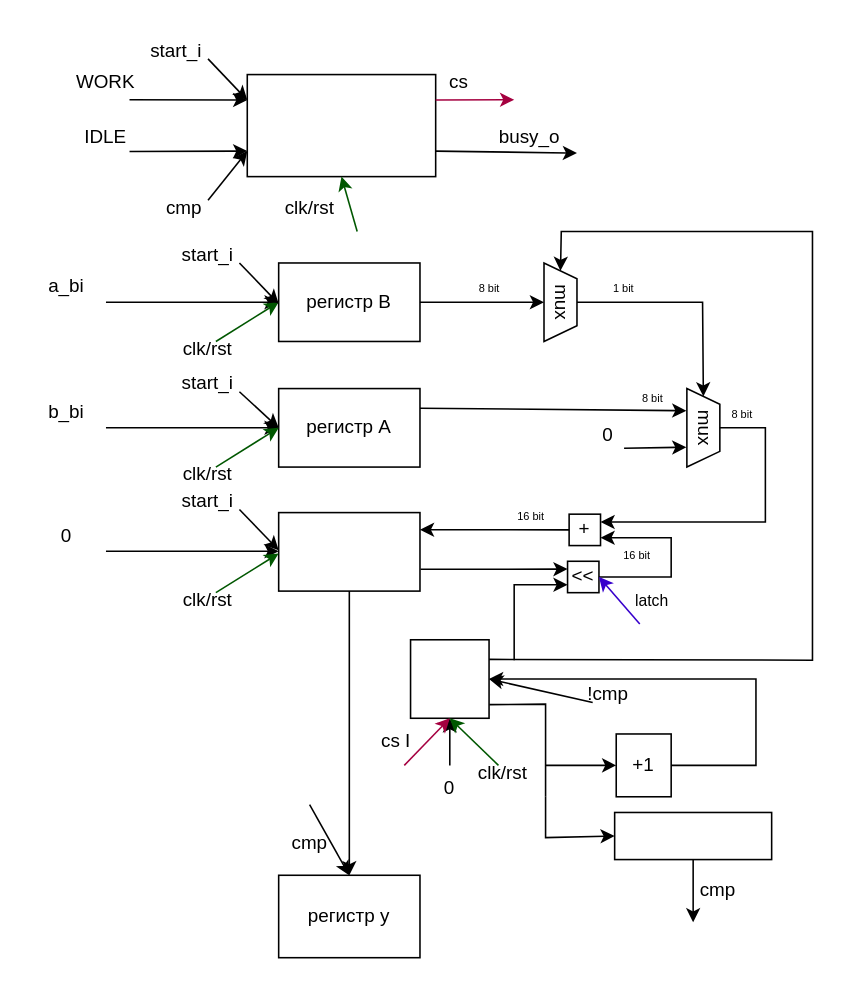
The diagram is 853 pixels wide and 984 high, and some of its shapes have lost their labels. Here are the shapes that lost their labels. From the top down, the centre of each, then its label:
At point 341,125: "Control unit (IDLE, WORK)".
At point 348,551: "регистр part_res".
At point 449,678: "ctr".
At point 692,835: "comporator (7)".
